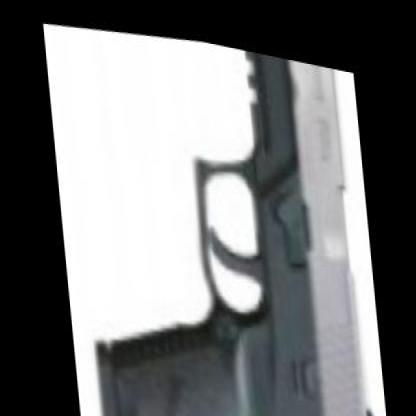pistol: (65, 9, 391, 415)
